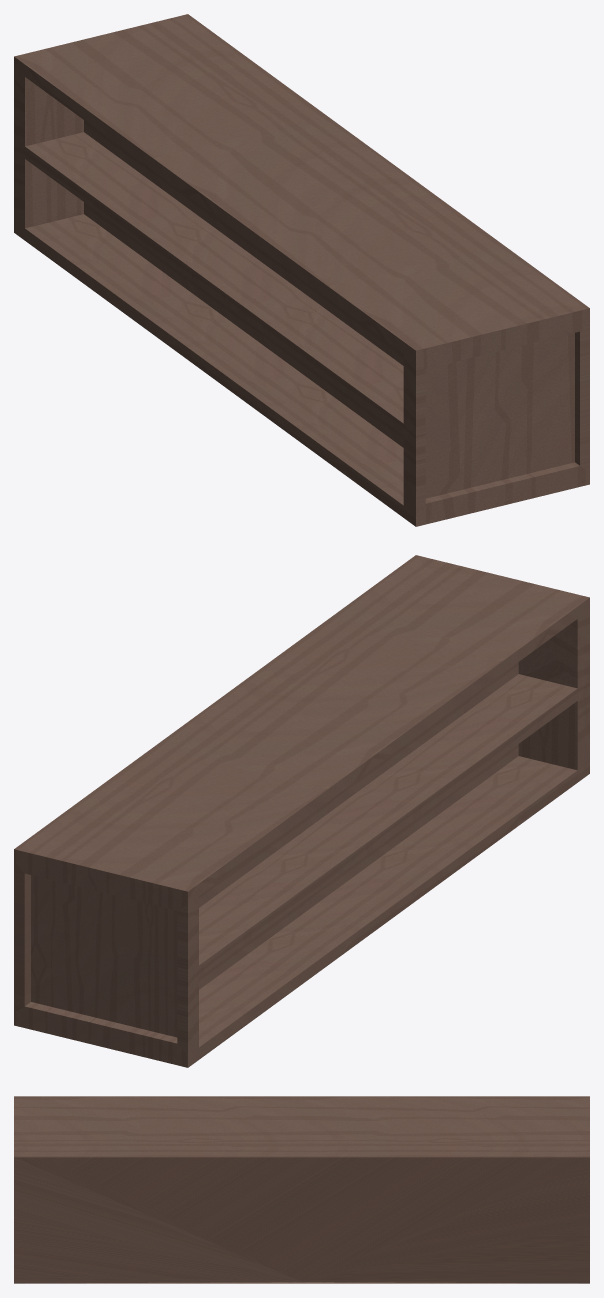
Rendered from Bookcase_small.fbx.
3 renders of one model, top to bottom at view 1: azimuth 30°, elevation 25°; view 2: azimuth 150°, elevation 25°; view 3: azimuth 270°, elevation 25°, orthographic. The views are drawn at different scales.
Parts seen in each view (by area): view 1: bOOKCASE.001; view 2: bOOKCASE.001; view 3: bOOKCASE.001.
Boxes of the visible parts, x1,y1,x2,y2 form: bOOKCASE.001: [14, 14, 589, 526]; bOOKCASE.001: [14, 555, 589, 1067]; bOOKCASE.001: [14, 1096, 589, 1283].
Size of the model in its own units: 100 by 96.75 by 400.
